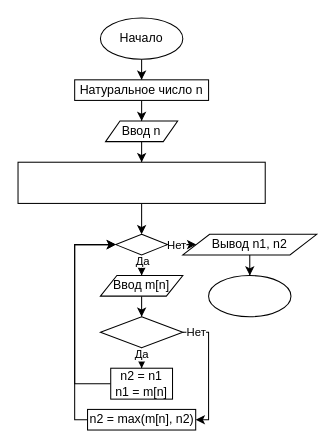
This 335x448 diagram has some shape labels left out. The centre of each missing label's shape, as x and y in pixels:
"m[n] > n1" belongs at (x=141, y=332).
"n--" belongs at (x=141, y=244).
"Конец" belongs at (x=249, y=295).
"Массив целых чисел m длины n Целое число n1 = INT_MIN, n2 = INT_MIN" belongs at (x=141, y=182).
